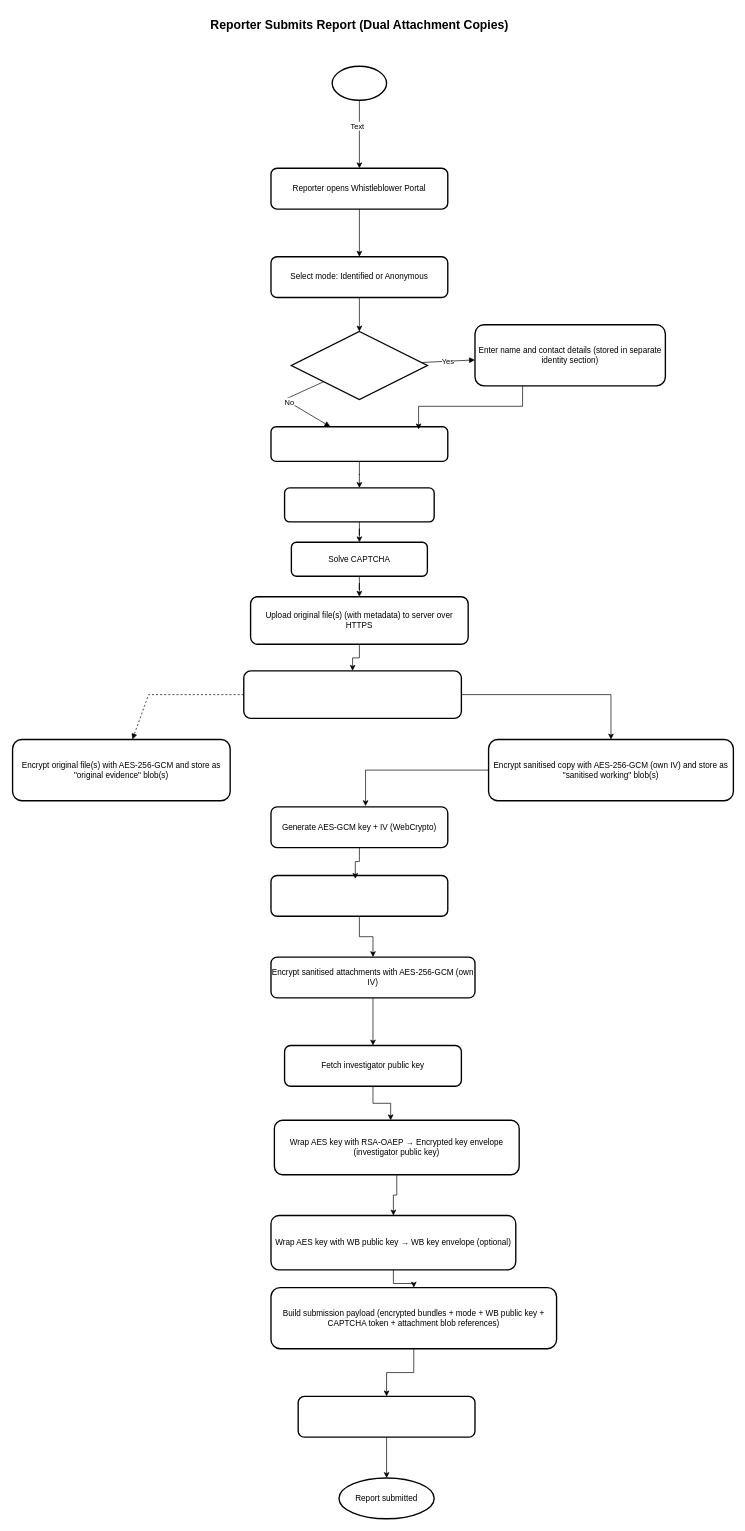
The diagram is 745 pixels wide and 1531 high, and some of its shapes have lost their labels. Each missing label, with the centre of its shape:
Attach files (optional): (359,504)
Create sanitised copy without metadata (EXIF, author, GPS): (352,694)
Encrypt report text with AES-256-GCM: (359,895)
Enter report details (text, category, severity): (359,444)
Mode = Identified?: (359,365)
Send POST /api/reports over HTTPS: (386,1416)
Start: (359,83)
